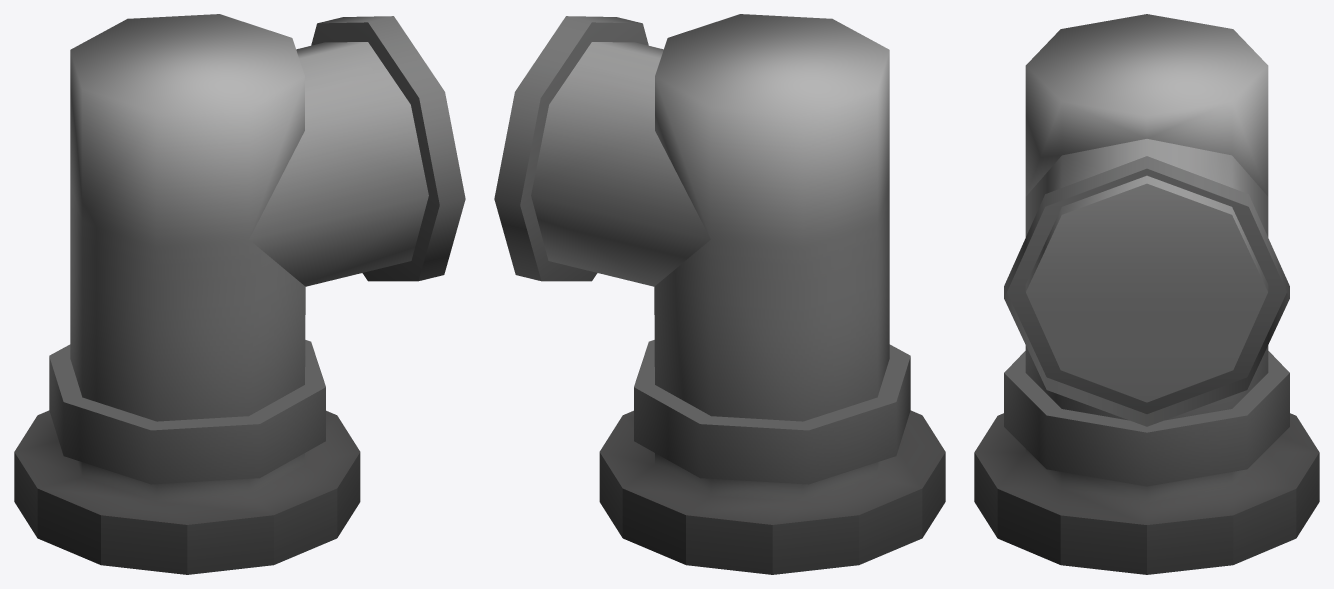
The model's file is Pipe_ConnectorGround.glb.
The picture shows the model from 3 angles, left to right: view 1: azimuth 30°, elevation 25°; view 2: azimuth 150°, elevation 25°; view 3: azimuth 270°, elevation 25°; orthographic projection.
Parts seen in each view (by area): view 1: Pipe_ConnectorGround; view 2: Pipe_ConnectorGround; view 3: Pipe_ConnectorGround.
Boxes of the visible parts, box(x1,y1,x2,y2) form: Pipe_ConnectorGround: box(14, 14, 465, 574); Pipe_ConnectorGround: box(494, 14, 945, 574); Pipe_ConnectorGround: box(974, 14, 1319, 574).
Size of the model in its own units: 0.4313 by 0.5068 by 0.3627.
Materials: 1 (1 with a texture image).
